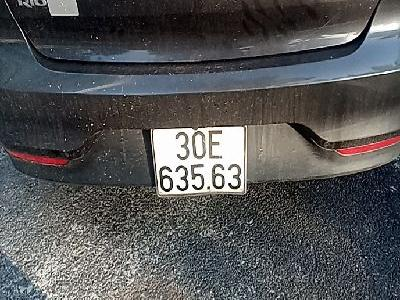lisence: (149, 124, 250, 198)
